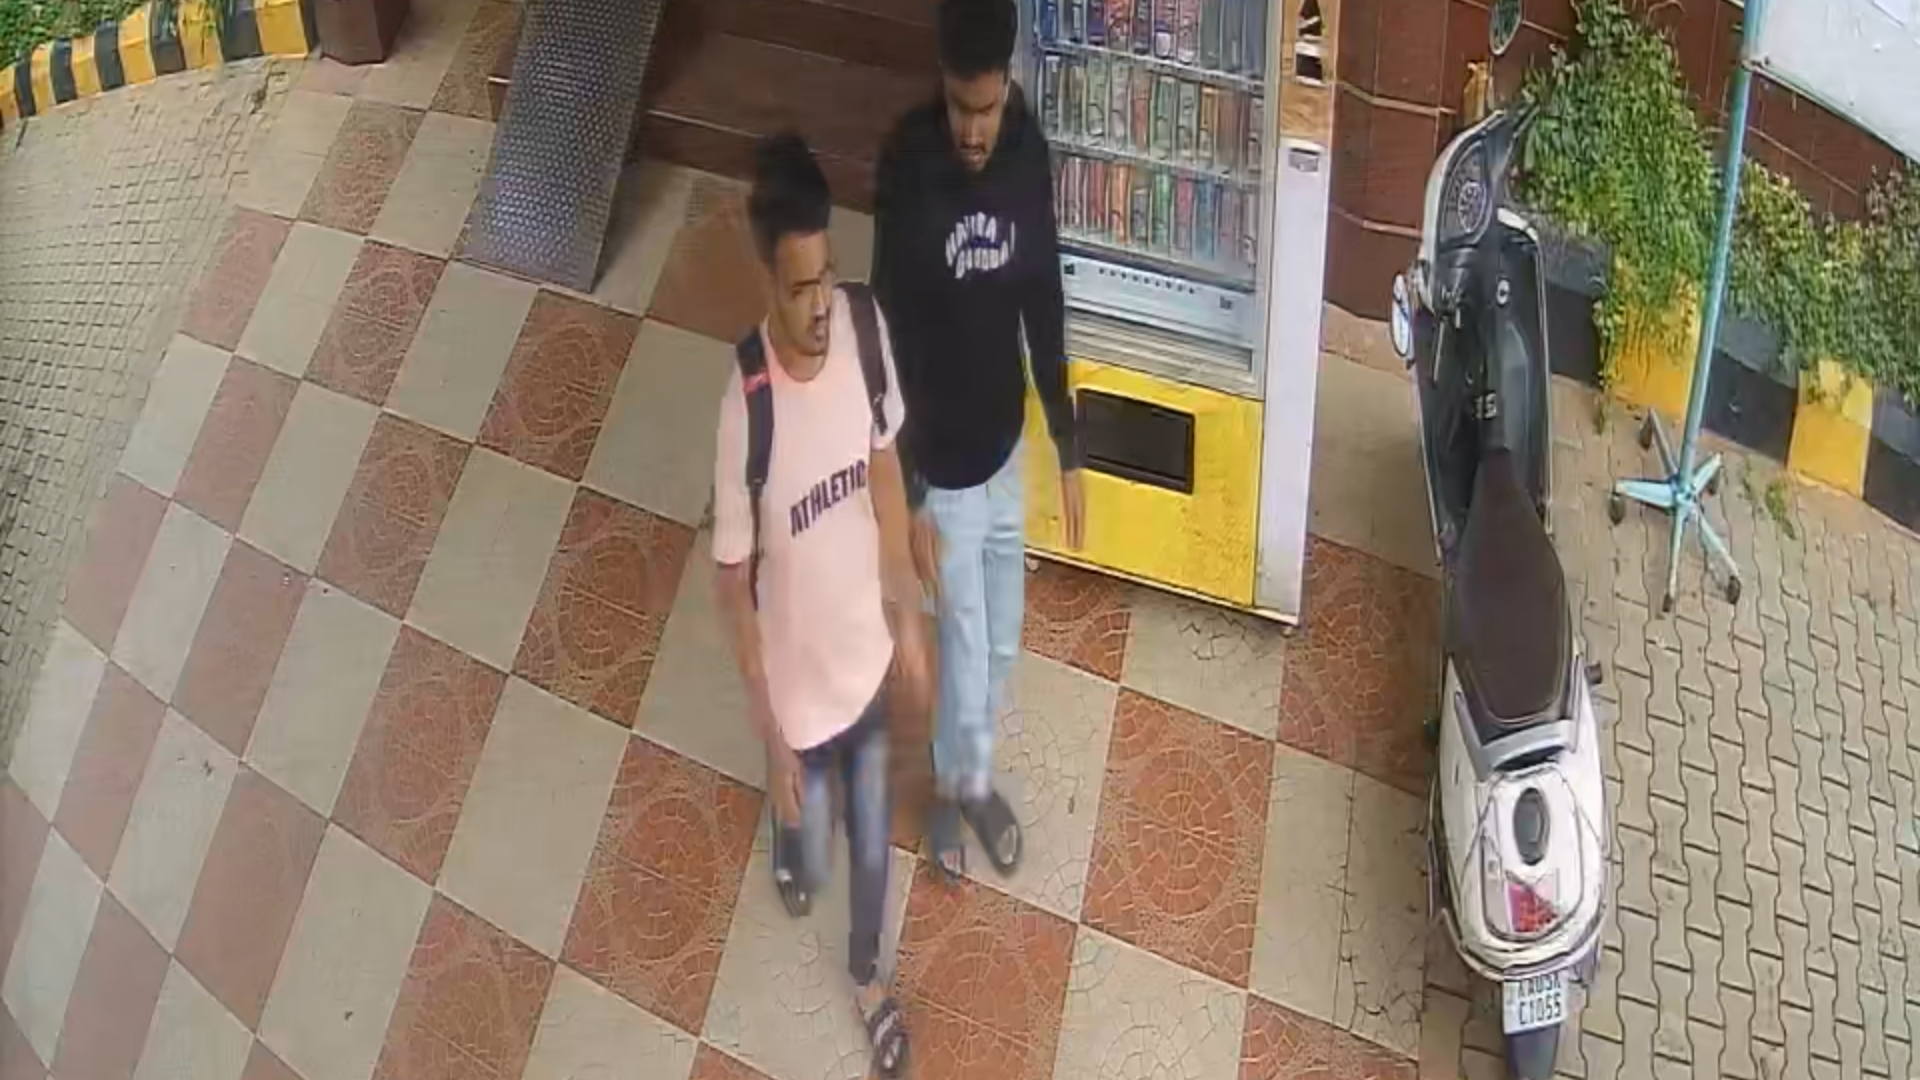intruder: (711, 123, 938, 1080), (895, 1, 1087, 882)
